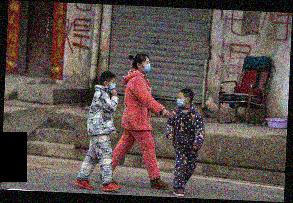with_mask: (141, 59, 152, 74), (176, 94, 186, 108), (108, 80, 117, 93)
